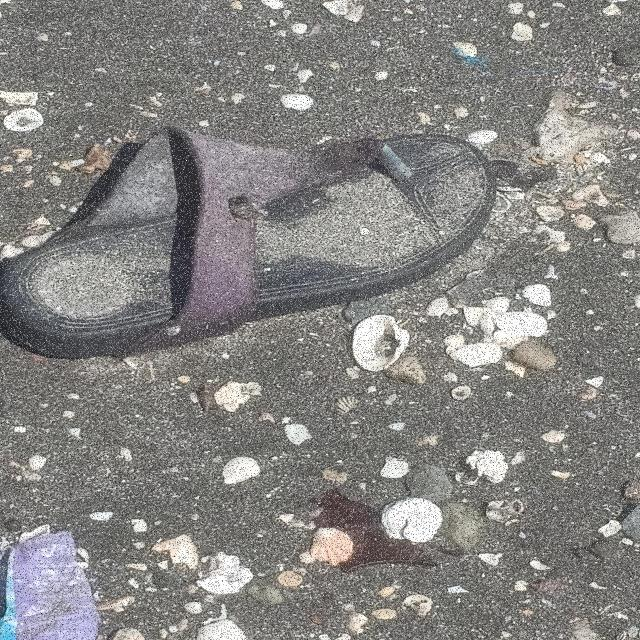rubber_waste: (3, 133, 489, 357), (3, 530, 105, 640)
